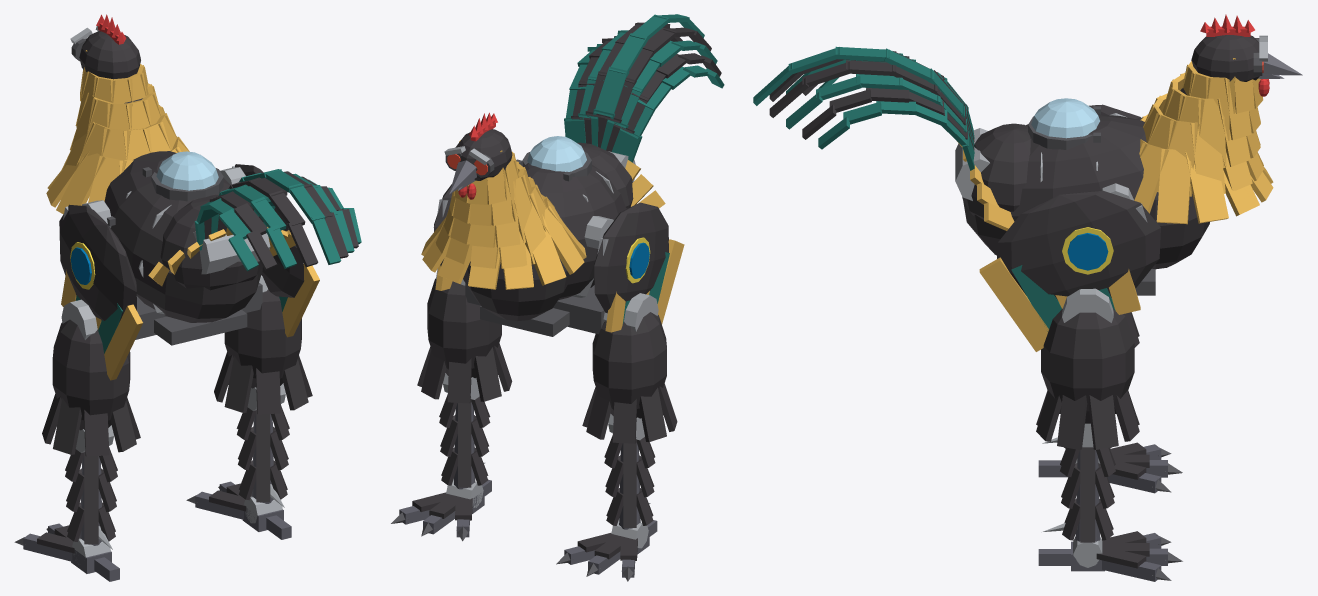
File: tupp.glb
3 renders of one model, left to right at view 1: azimuth 30°, elevation 25°; view 2: azimuth 150°, elevation 25°; view 3: azimuth 270°, elevation 25°, orthographic. The views are drawn at different scales.
Visible parts, largest first — view 1: body, tail, head, hip_L, wing_L, hip_R, knee_R, knee_L, wing_R, skull, ankle_R, ankle_L (+1 smaller); view 2: head, body, tail, hip_L, wing_L, hip_R, knee_R, knee_L, skull, ankle_L, ankle_R, pelvis (+1 smaller); view 3: body, wing_R, head, tail, hip_R, knee_R, skull, ankle_R, ankle_L.
Part boxes in pixels (x1,y1,x2,y2): body: (104,151,295,345); tail: (193,169,361,274); head: (46,50,189,214); hip_L: (42,299,140,456); wing_L: (59,200,142,380); hip_R: (214,275,312,414); knee_R: (236,383,289,507); knee_L: (65,425,117,549); wing_R: (220,164,319,337); skull: (70,14,140,79); ankle_R: (186,481,291,539); ankle_L: (14,523,119,581); head: (421,140,586,289); body: (463,136,665,336); tail: (564,14,724,181); hip_L: (582,293,677,443); wing_L: (584,202,684,332); hip_R: (417,268,512,403); knee_R: (439,373,490,489); knee_L: (604,414,655,529); skull: (444,112,512,199); ankle_L: (556,518,657,581); ankle_R: (391,479,491,541); pelvis: (465,283,604,334); body: (957,98,1209,295); wing_R: (979,183,1160,351); head: (1134,58,1273,224); tail: (753,46,989,200); hip_R: (1036,288,1139,449); knee_R: (1043,423,1115,542); skull: (1191,14,1302,96); ankle_R: (1038,531,1182,581); ankle_L: (1038,442,1182,493).
Bounding box in the file's own units: 5.08 × 9.07 × 8.93.
